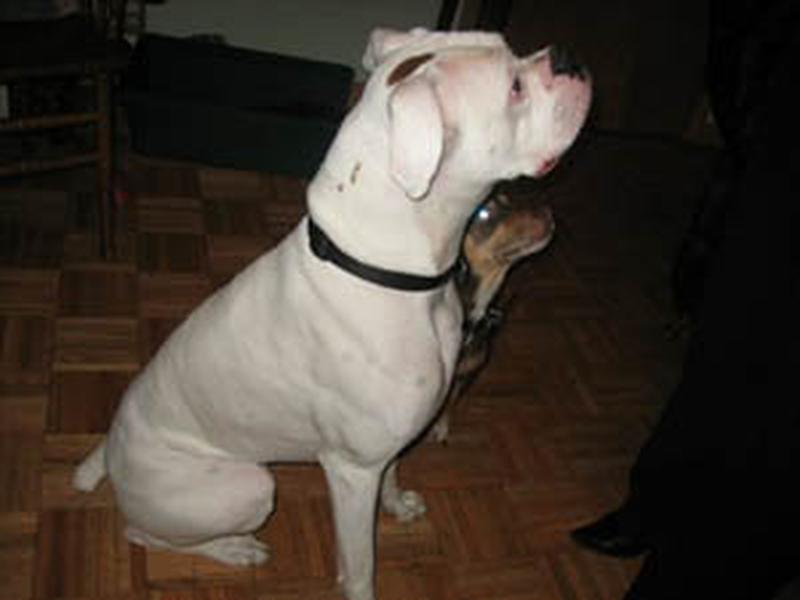dog: (80, 19, 621, 584)
